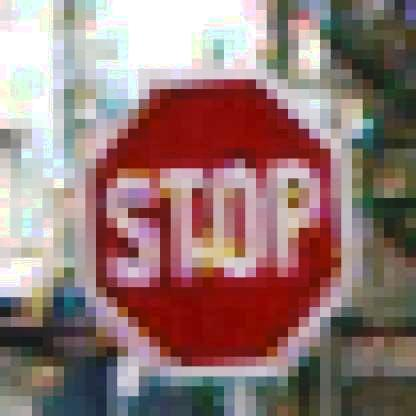Stop Sign: (75, 67, 360, 379)
